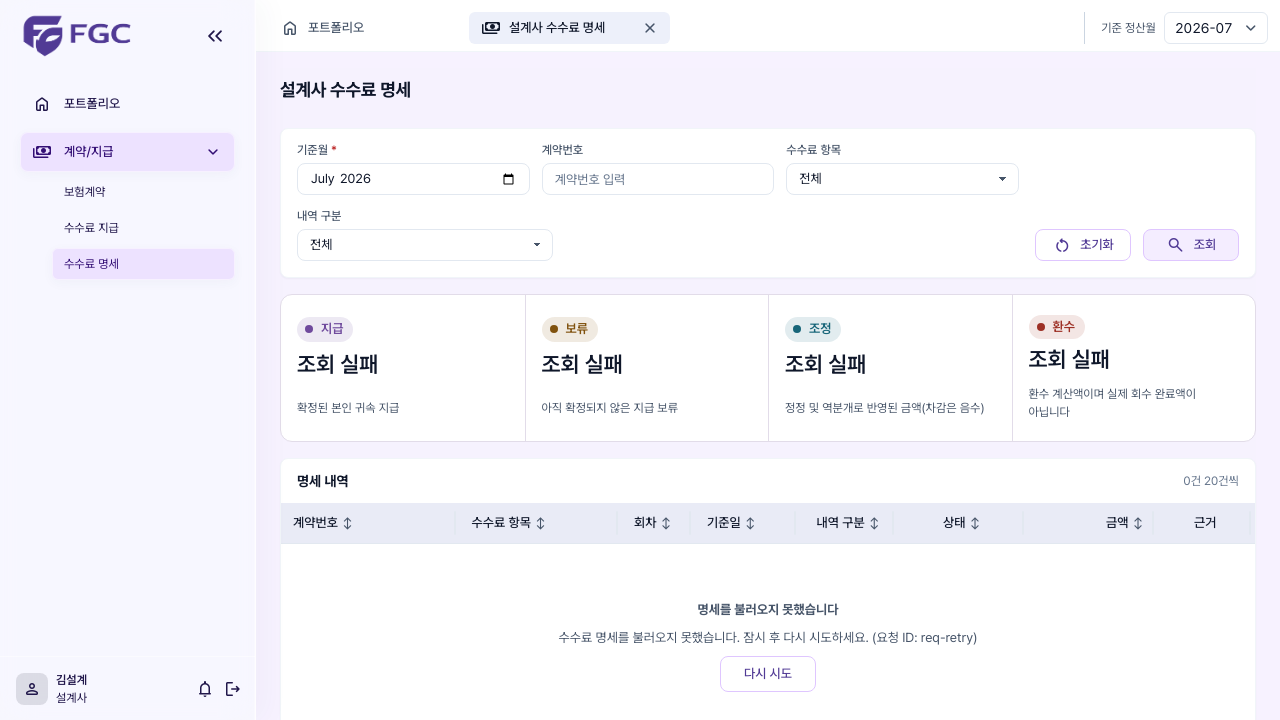
Test: RPT-W02 설계사 수수료 명세 › 조회 실패 후 다시 시도하면 목록과 요약을 복구한다
expect the 1st text "조회 실패" is shown: met, box top-left (297, 351), bottom-right (378, 377)
Click the button "다시 시도" at {"x": 768, "y": 674}, box top-left (720, 656), bottom-right (816, 692)
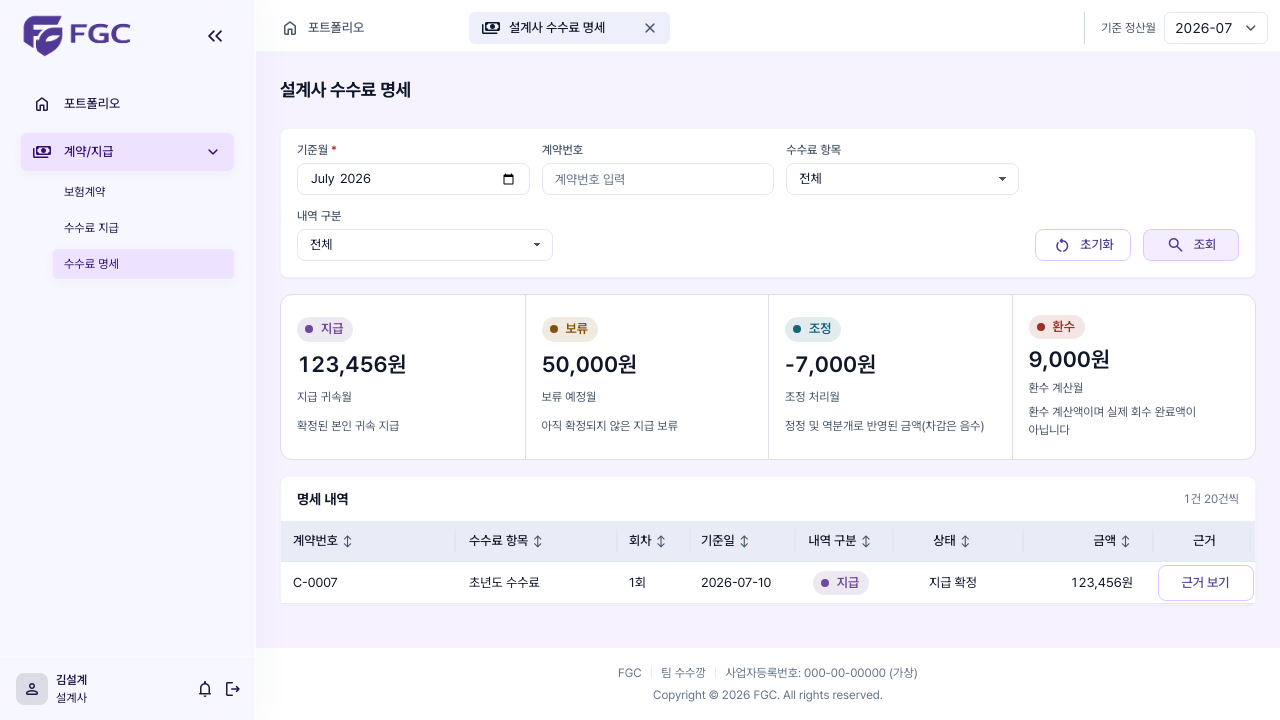
expect the text "C-0007" is shown: met, box top-left (281, 562), bottom-right (457, 604)
expect the element named "지급 요약" shows "123,456": met, box top-left (297, 351), bottom-right (407, 377)
expect the text "req-retry" is gone: met
